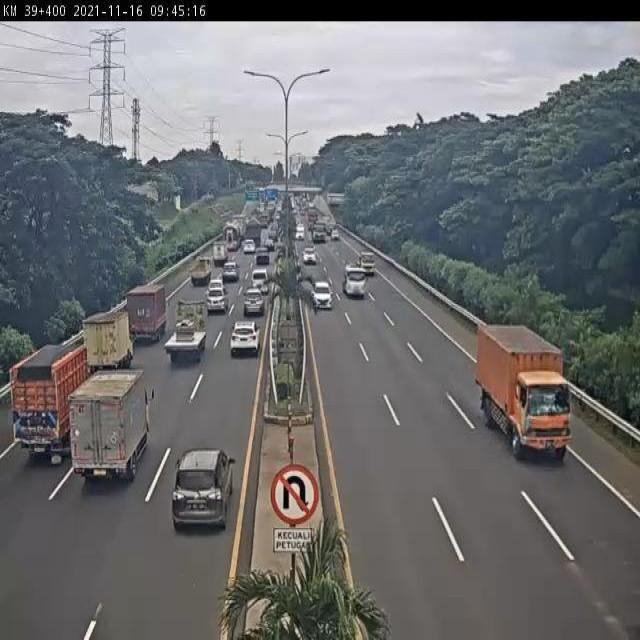car: (173, 448, 233, 529), (229, 320, 261, 356), (243, 288, 266, 319), (206, 291, 226, 316), (221, 260, 240, 283), (207, 279, 225, 296)
small bus: (251, 267, 270, 292)
small truck: (71, 368, 153, 480), (83, 312, 133, 373), (191, 255, 213, 281)
truck-m-: (477, 322, 570, 462), (11, 346, 86, 458), (160, 304, 203, 364), (126, 286, 167, 342)
